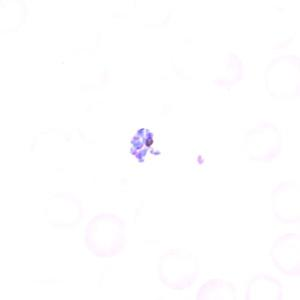Infected: (128, 126, 165, 166)
